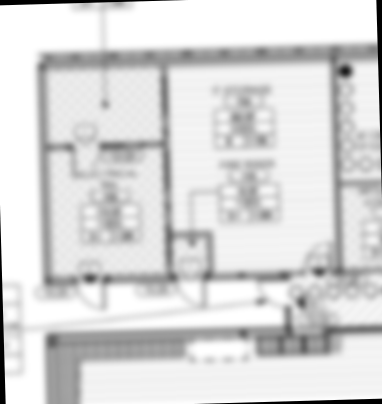door: (255, 275, 292, 312), (74, 278, 110, 313), (300, 239, 334, 274), (70, 143, 102, 178), (175, 278, 210, 308)
